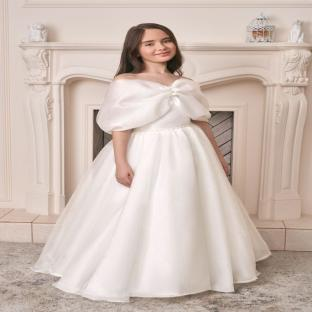Human: (32, 23, 271, 302)
